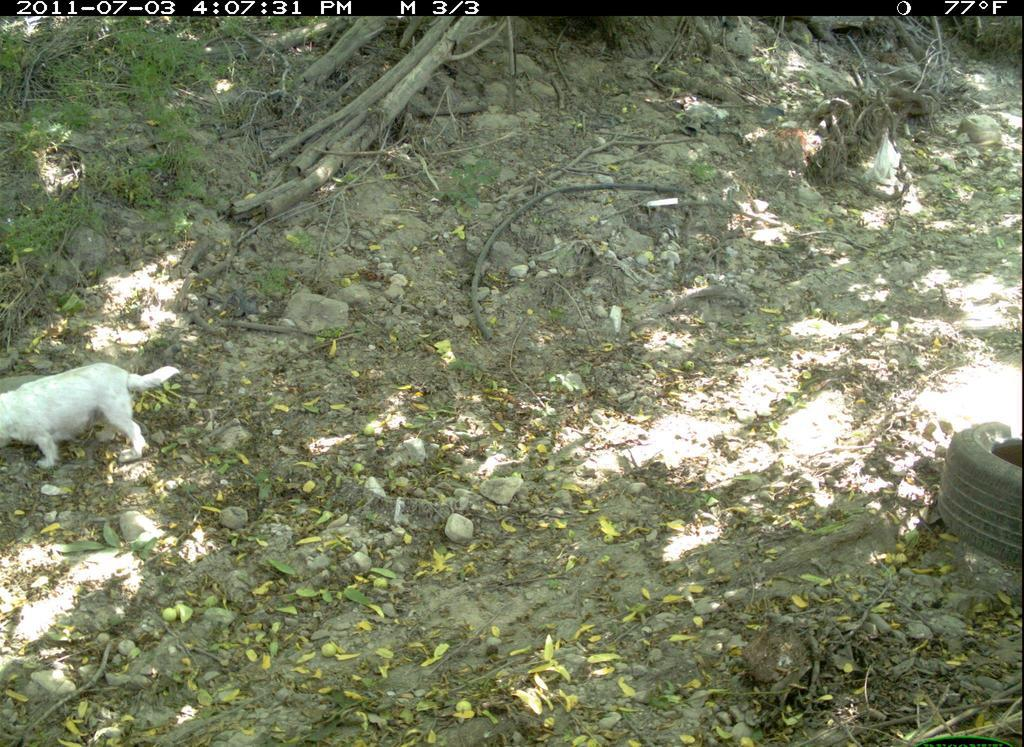dog: (1, 318, 189, 495)
